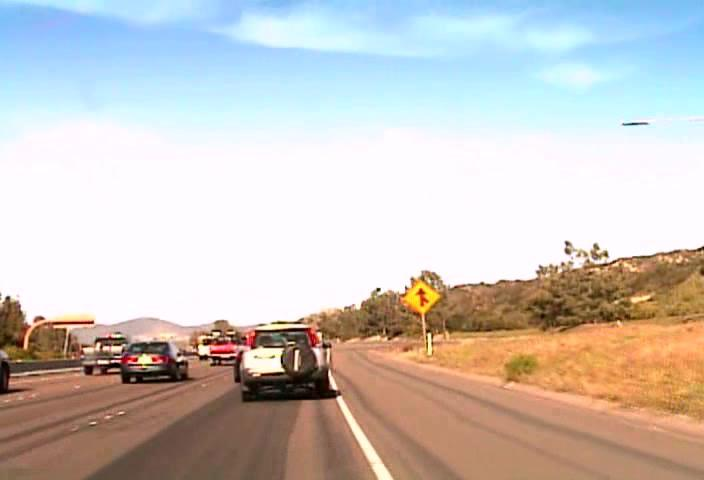merge: (402, 279, 441, 315)
